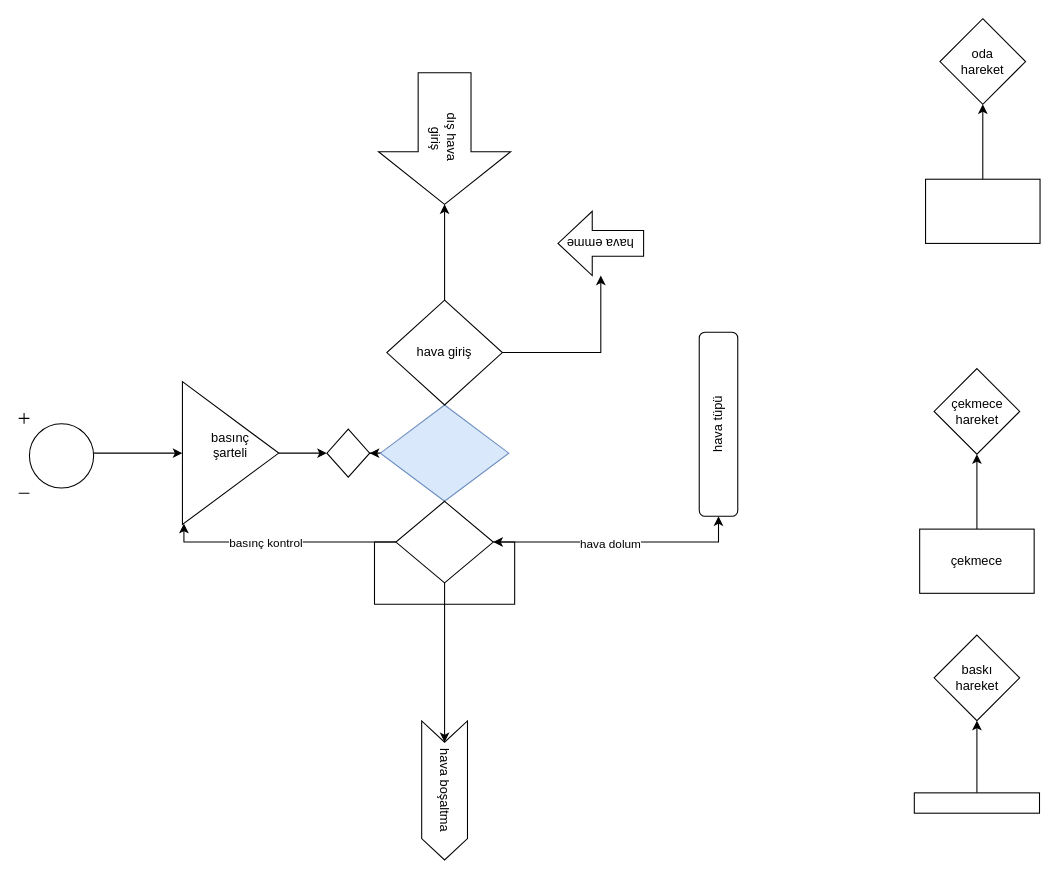
Some shapes in this 1059 by 880 pixel diagram are drawn without their labels. The shapes that lost their labels are listed below. From the top down, each one's box as (x1, y1, x2, y2) in pixels, then its label:
(924, 178, 1040, 243): oda
(326, 428, 370, 477): faz
(379, 404, 509, 501): KOMPRESÖR
(395, 500, 493, 583): hava çıkış
(913, 792, 1040, 813): baskı
